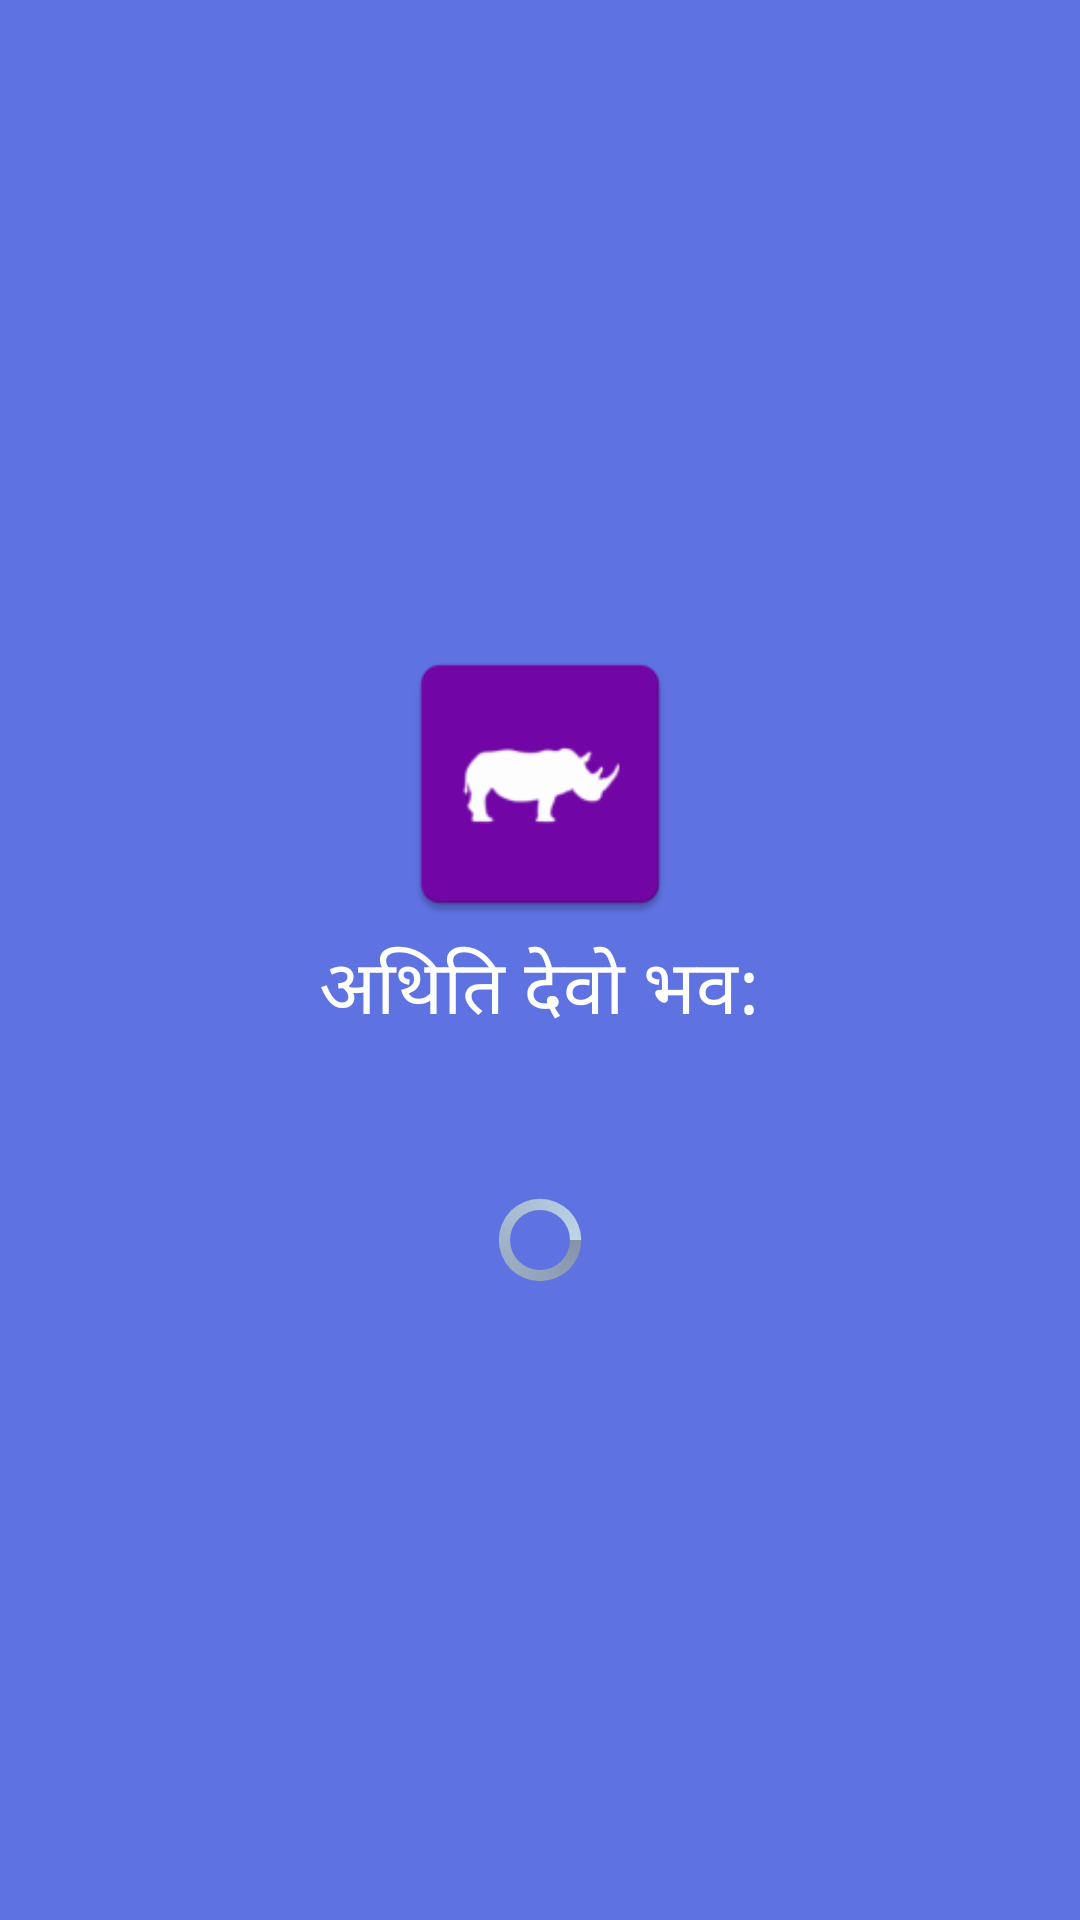

Named icons in this screenshot (1080×1920) and their bounding boxes, rect(x1, y1, x2, y2):
rhino: rect(420, 664, 661, 910)
